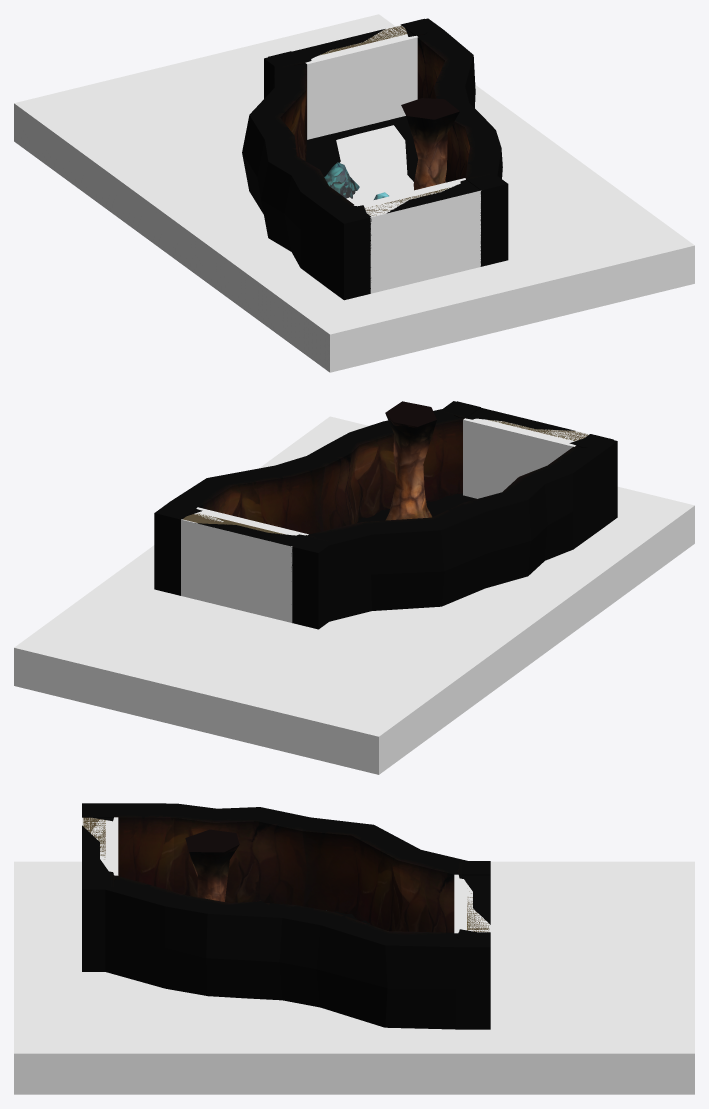
File: Dungeon_011_Road_003.fbx
The picture shows the model from 3 angles, top to bottom: view 1: azimuth 30°, elevation 25°; view 2: azimuth 150°, elevation 25°; view 3: azimuth 270°, elevation 25°; orthographic projection. The views are drawn at different scales.
Visible parts, largest first — view 1: Cube, Dan1, DoorWay_NavMask (1) (×2), Dungeon_011_Object_010, Dun_011_Door_002_old (×2), Dan1_shadow, Dungeon_011_Object_012; view 2: Cube, Dan1, DoorWay_NavMask (1) (×2), Dungeon_011_Object_010, Dun_011_Door_002_old (×2), Dan1_shadow; view 3: Cube, Dan1, Dun_011_Door_002_old (×2), Dungeon_011_Object_010, DoorWay_NavMask (1) (×2), Dun_011_Door_003_WarpRoom.
Part boxes in pixels (box(x1,y1,x2,y2)): Cube: box(14, 14, 694, 372); Dan1: box(242, 18, 508, 300); DoorWay_NavMask (1) (×2): box(305, 25, 481, 293); Dungeon_011_Object_010: box(401, 98, 459, 190); Dun_011_Door_002_old (×2): box(268, 18, 503, 222); Dan1_shadow: box(306, 116, 417, 181); Dungeon_011_Object_012: box(324, 162, 359, 198); Cube: box(14, 416, 694, 774); Dan1: box(154, 401, 617, 629); DoorWay_NavMask (1) (×2): box(181, 418, 589, 622); Dungeon_011_Object_010: box(385, 401, 436, 520); Dun_011_Door_002_old (×2): box(158, 401, 613, 551); Dan1_shadow: box(357, 493, 476, 522); Cube: box(14, 861, 694, 1094); Dan1: box(82, 803, 490, 1029); Dun_011_Door_002_old (×2): box(82, 804, 490, 944); Dungeon_011_Object_010: box(185, 829, 239, 901); DoorWay_NavMask (1) (×2): box(82, 817, 490, 933); Dun_011_Door_003_WarpRoom: box(83, 817, 105, 859).
Size of what is drawn, in the model's own units: 10 by 3.94 by 15.
